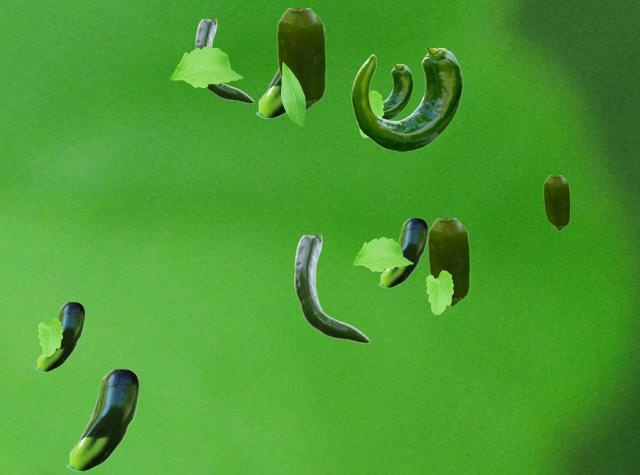green_chili: (351, 48, 462, 150), (294, 235, 369, 342), (66, 369, 137, 471), (276, 8, 325, 110), (195, 19, 253, 102), (427, 218, 469, 306), (35, 302, 83, 371), (378, 218, 426, 287), (383, 64, 412, 119), (255, 69, 285, 118), (543, 175, 569, 230)
